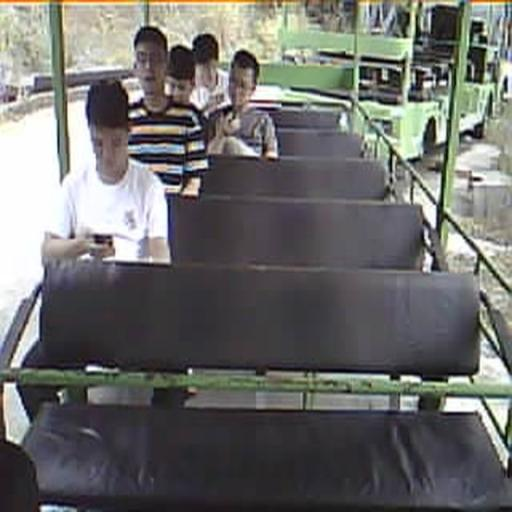persona: (41, 78, 172, 265), (85, 25, 209, 199), (206, 49, 279, 160), (187, 35, 229, 120), (165, 42, 198, 104)
